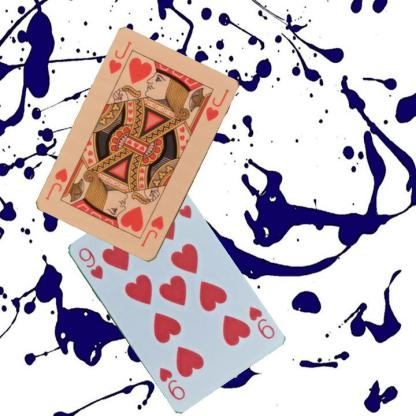9h: (246, 303, 276, 341), (75, 244, 104, 281)
Jh: (106, 38, 133, 76), (138, 214, 165, 249)
